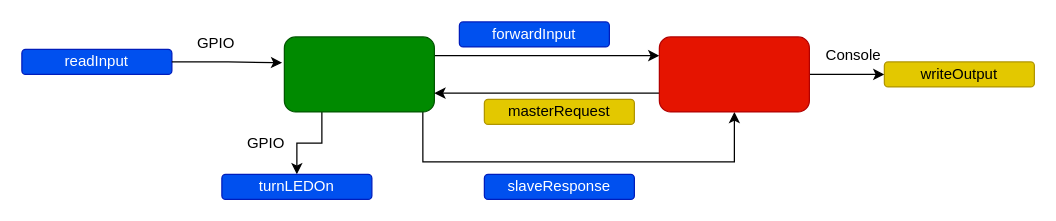
This 1056x221 diagram has some shape labels left out. The centre of each missing label's shape, as x and y in pixels:
"ESP32" belongs at point (358, 74).
"MasterApp" belongs at point (733, 74).
